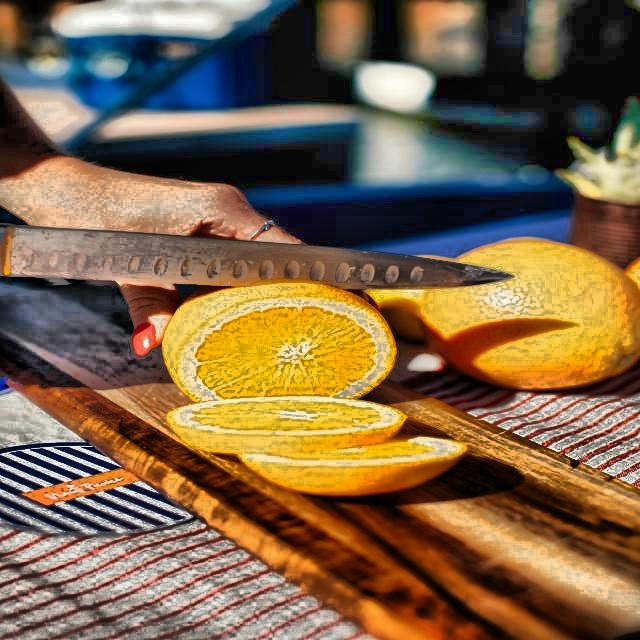knife: (0, 225, 520, 292)
